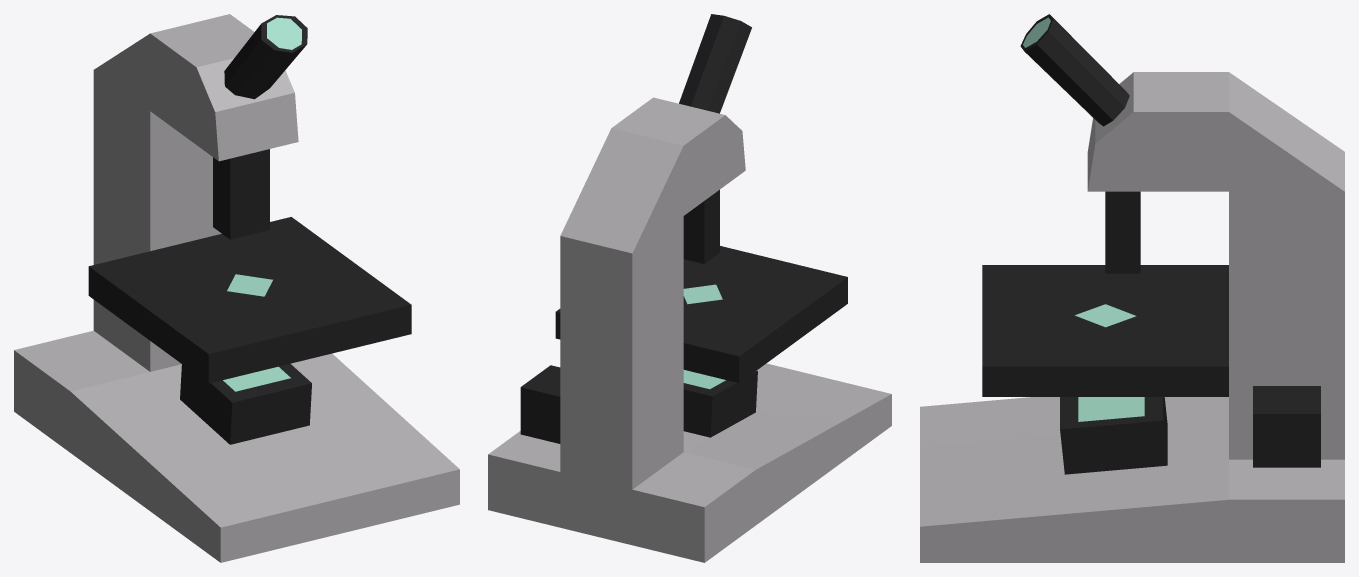
Rendered from Lab_Microscope.glb.
3 views of the same model, side by side, from view 1: azimuth 30°, elevation 25°; view 2: azimuth 150°, elevation 25°; view 3: azimuth 270°, elevation 25° (orthographic). The views are drawn at different scales.
Visible parts, largest first — view 1: Microscope; view 2: Microscope; view 3: Microscope.
Part boxes in pixels (x1,y1,x2,y2): Microscope: (14,14,459,562); Microscope: (488,14,891,562); Microscope: (920,14,1344,562).
Size of the model in its own units: 0.3332 by 0.6272 by 0.4989.
